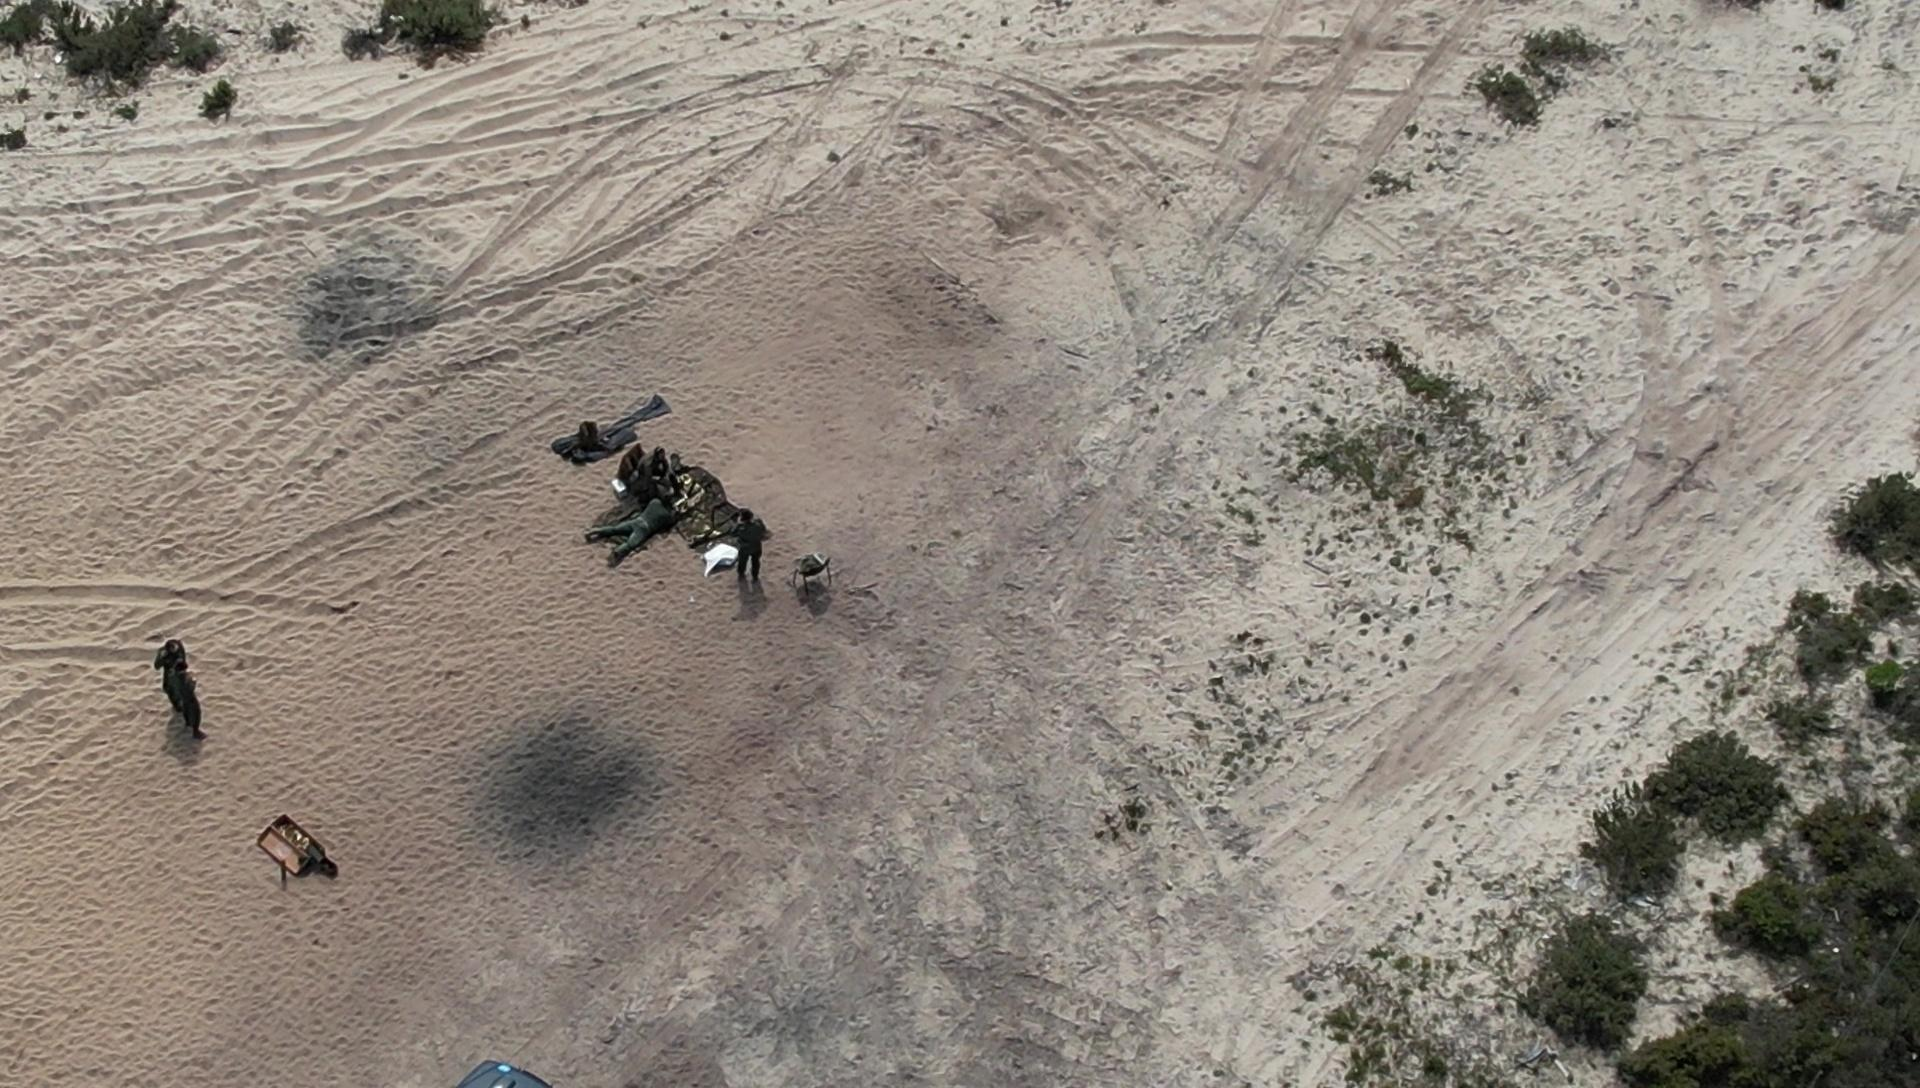Soldier: (587, 473, 717, 560), (156, 665, 216, 761), (716, 499, 771, 593), (620, 451, 679, 505)
